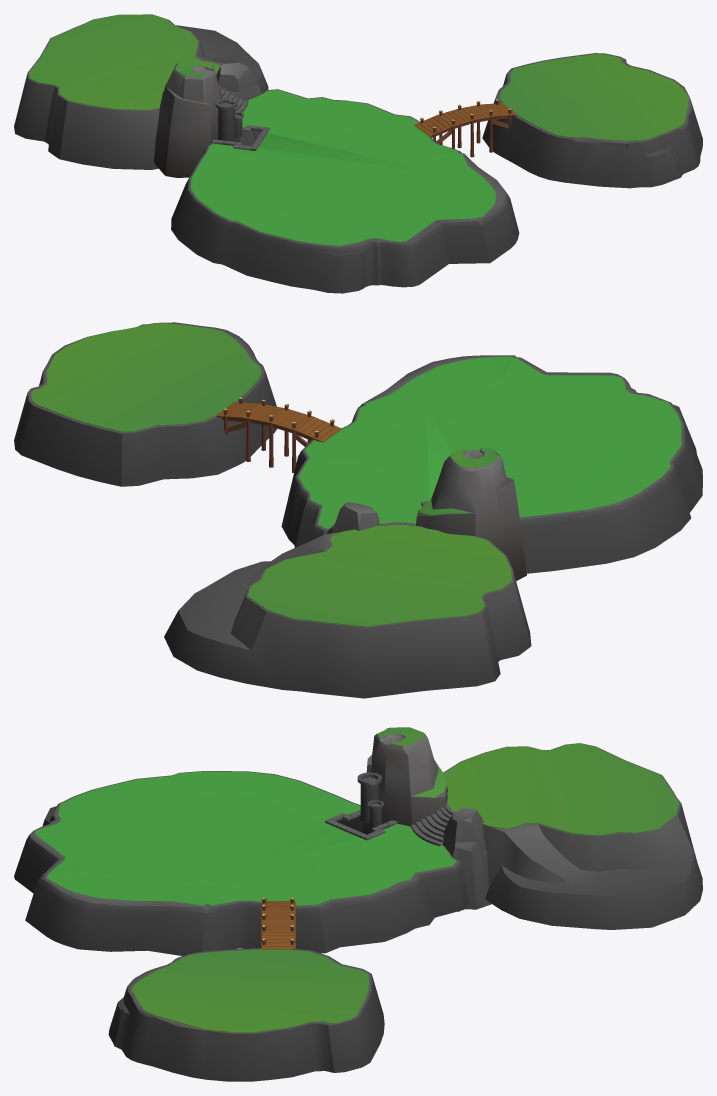
Rendered from Terrein Base.fbx.
3 renders of one model, top to bottom at view 1: azimuth 30°, elevation 25°; view 2: azimuth 150°, elevation 25°; view 3: azimuth 270°, elevation 25°, orthographic. The views are drawn at different scales.
Parts seen in each view (by area): view 1: Cube, Plane, Plane.001, Plane.002, Cube.049, Cube.024, Cylinder.001, Circle; view 2: Cube, Plane.001, Plane, Plane.002, Cube.024, Cylinder.001, Cube.049; view 3: Cube, Plane.001, Plane, Plane.002, Cube.049, Cube.024, Circle.
Boxes of the visible parts, bbox=[...] form: Cube: bbox=[171, 89, 519, 293]; Plane: bbox=[482, 53, 702, 188]; Plane.001: bbox=[14, 14, 268, 169]; Plane.002: bbox=[154, 60, 222, 177]; Cube.049: bbox=[216, 62, 261, 146]; Cube.024: bbox=[414, 103, 517, 136]; Cylinder.001: bbox=[420, 99, 511, 157]; Circle: bbox=[215, 98, 237, 141]; Cube: bbox=[281, 355, 702, 573]; Plane.001: bbox=[164, 524, 531, 698]; Plane: bbox=[14, 322, 276, 486]; Plane.002: bbox=[416, 448, 526, 580]; Cube.024: bbox=[216, 402, 341, 442]; Cylinder.001: bbox=[223, 397, 334, 472]; Cube.049: bbox=[327, 502, 380, 533]; Cube: bbox=[14, 771, 468, 955]; Plane.001: bbox=[443, 743, 702, 929]; Plane: bbox=[108, 948, 384, 1081]; Plane.002: bbox=[360, 727, 447, 834]; Cube.049: bbox=[443, 808, 491, 911]; Cube.024: bbox=[261, 901, 295, 949]; Circle: bbox=[357, 772, 381, 822].
Bounding box in the file's own units: 3038 × 3114 × 601.
